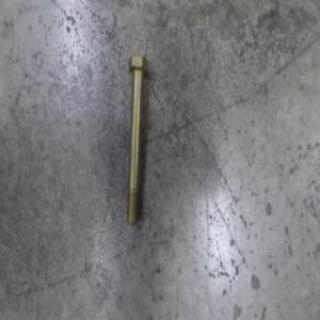Bolttrack_idkeyframe: (125, 52, 148, 228)
